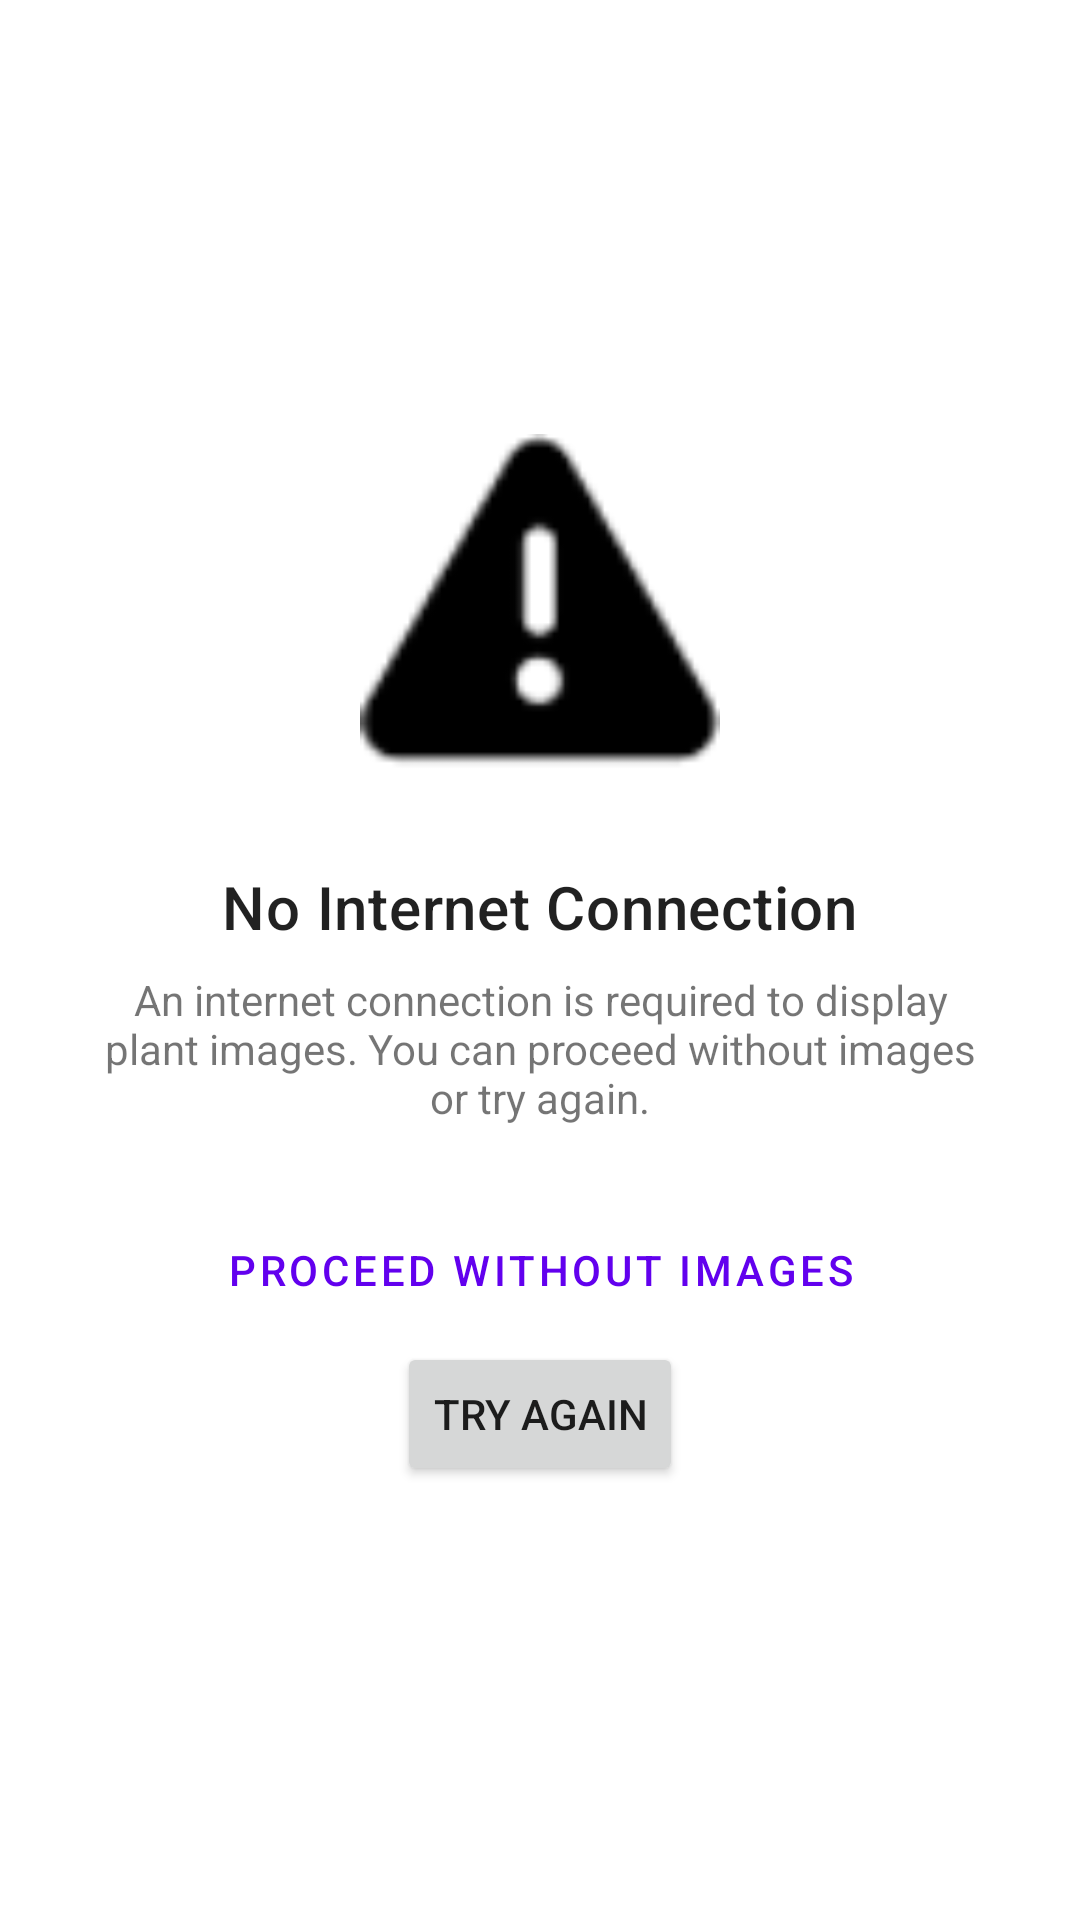

Screen size 1080x1920. Icon name, then its box in pixels as [left=x1, top=y1, right=x2, bottom=y2]:
alert: [left=360, top=434, right=720, bottom=763]
